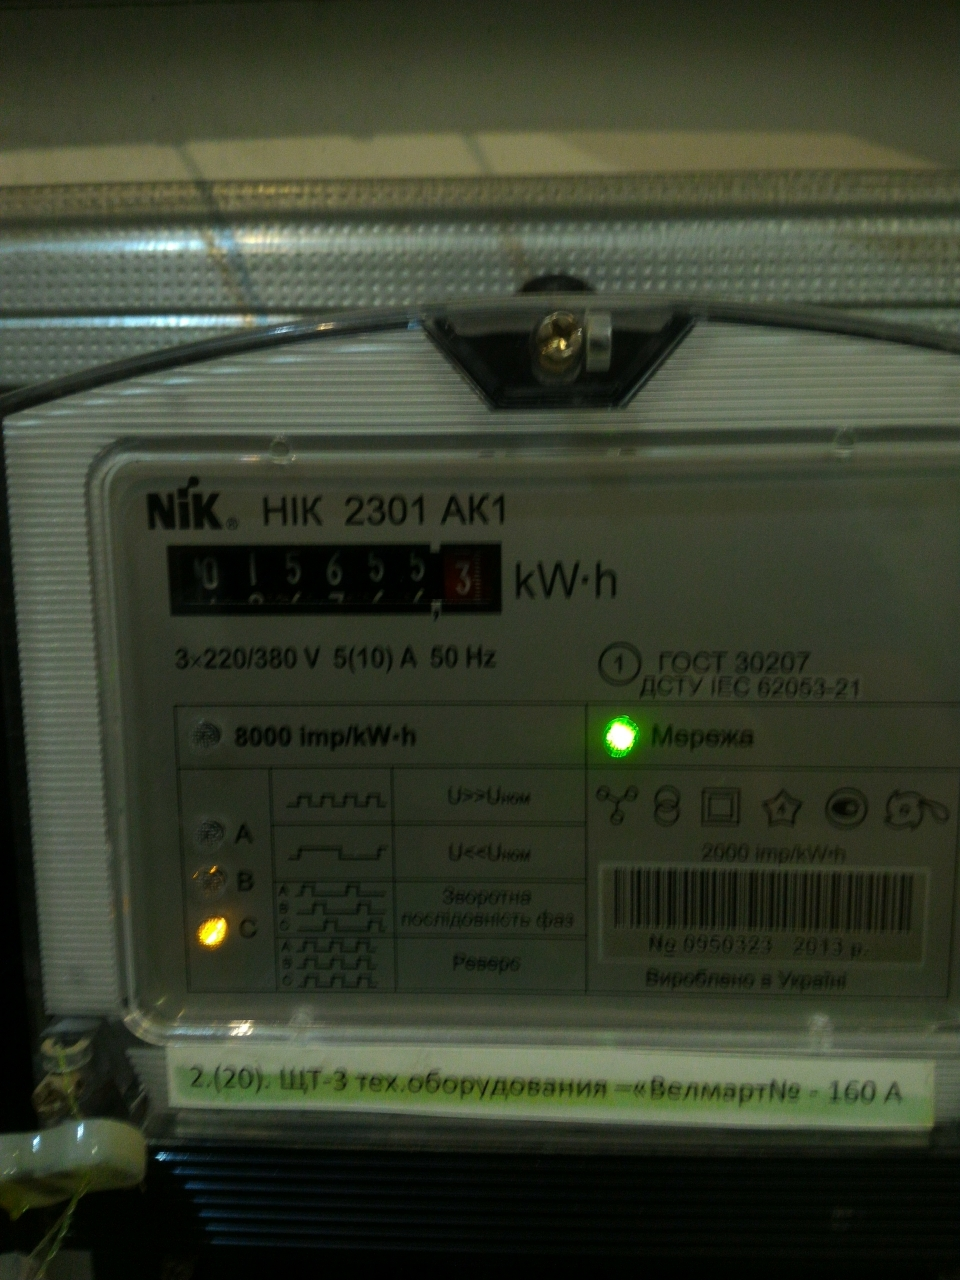0: (199, 552, 221, 593)
1: (242, 551, 261, 588)
3: (452, 558, 473, 597)
5: (281, 549, 305, 587), (366, 547, 387, 584), (407, 547, 427, 583)
6: (323, 549, 345, 589)
screen: (153, 527, 521, 629)
